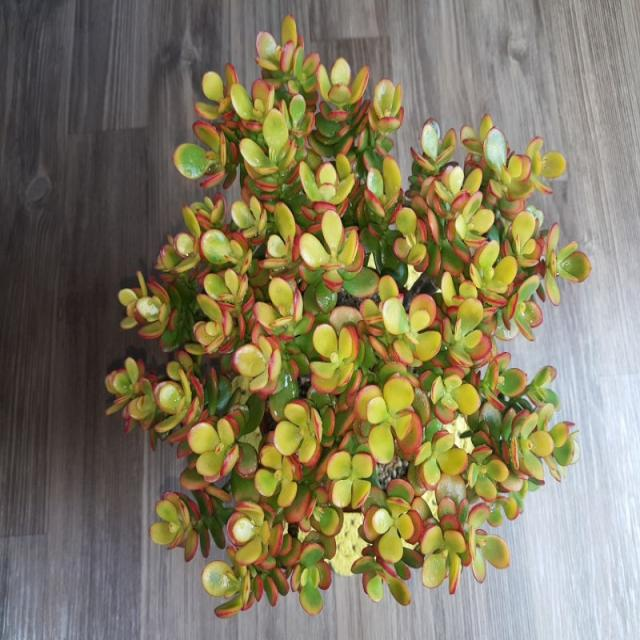Crassula: (460, 115, 566, 220), (299, 210, 379, 312), (360, 277, 441, 364), (366, 478, 432, 580), (418, 165, 494, 246), (239, 110, 300, 202), (316, 58, 370, 161), (186, 268, 248, 355), (255, 15, 320, 96), (355, 375, 415, 462), (442, 273, 491, 368), (154, 352, 204, 442), (202, 547, 264, 618), (174, 120, 238, 188), (420, 498, 466, 592), (105, 357, 159, 431), (254, 277, 315, 341), (545, 223, 591, 304), (186, 417, 240, 483), (118, 272, 170, 339), (150, 492, 200, 561), (310, 325, 360, 394), (468, 503, 510, 582), (299, 153, 355, 212), (410, 118, 456, 188), (358, 157, 404, 226), (394, 207, 440, 276), (470, 240, 518, 306), (274, 400, 321, 467), (155, 205, 201, 273), (495, 275, 542, 341), (510, 412, 554, 482), (415, 432, 468, 488), (351, 555, 411, 604), (230, 78, 275, 142), (291, 542, 331, 614), (255, 445, 300, 508), (479, 352, 528, 409), (326, 450, 374, 508), (229, 503, 271, 566), (246, 323, 281, 395), (195, 63, 238, 120), (504, 210, 542, 268), (525, 367, 560, 429), (545, 422, 581, 481), (369, 78, 404, 136), (269, 357, 299, 422), (431, 375, 480, 414), (550, 422, 575, 448), (274, 125, 289, 152)
